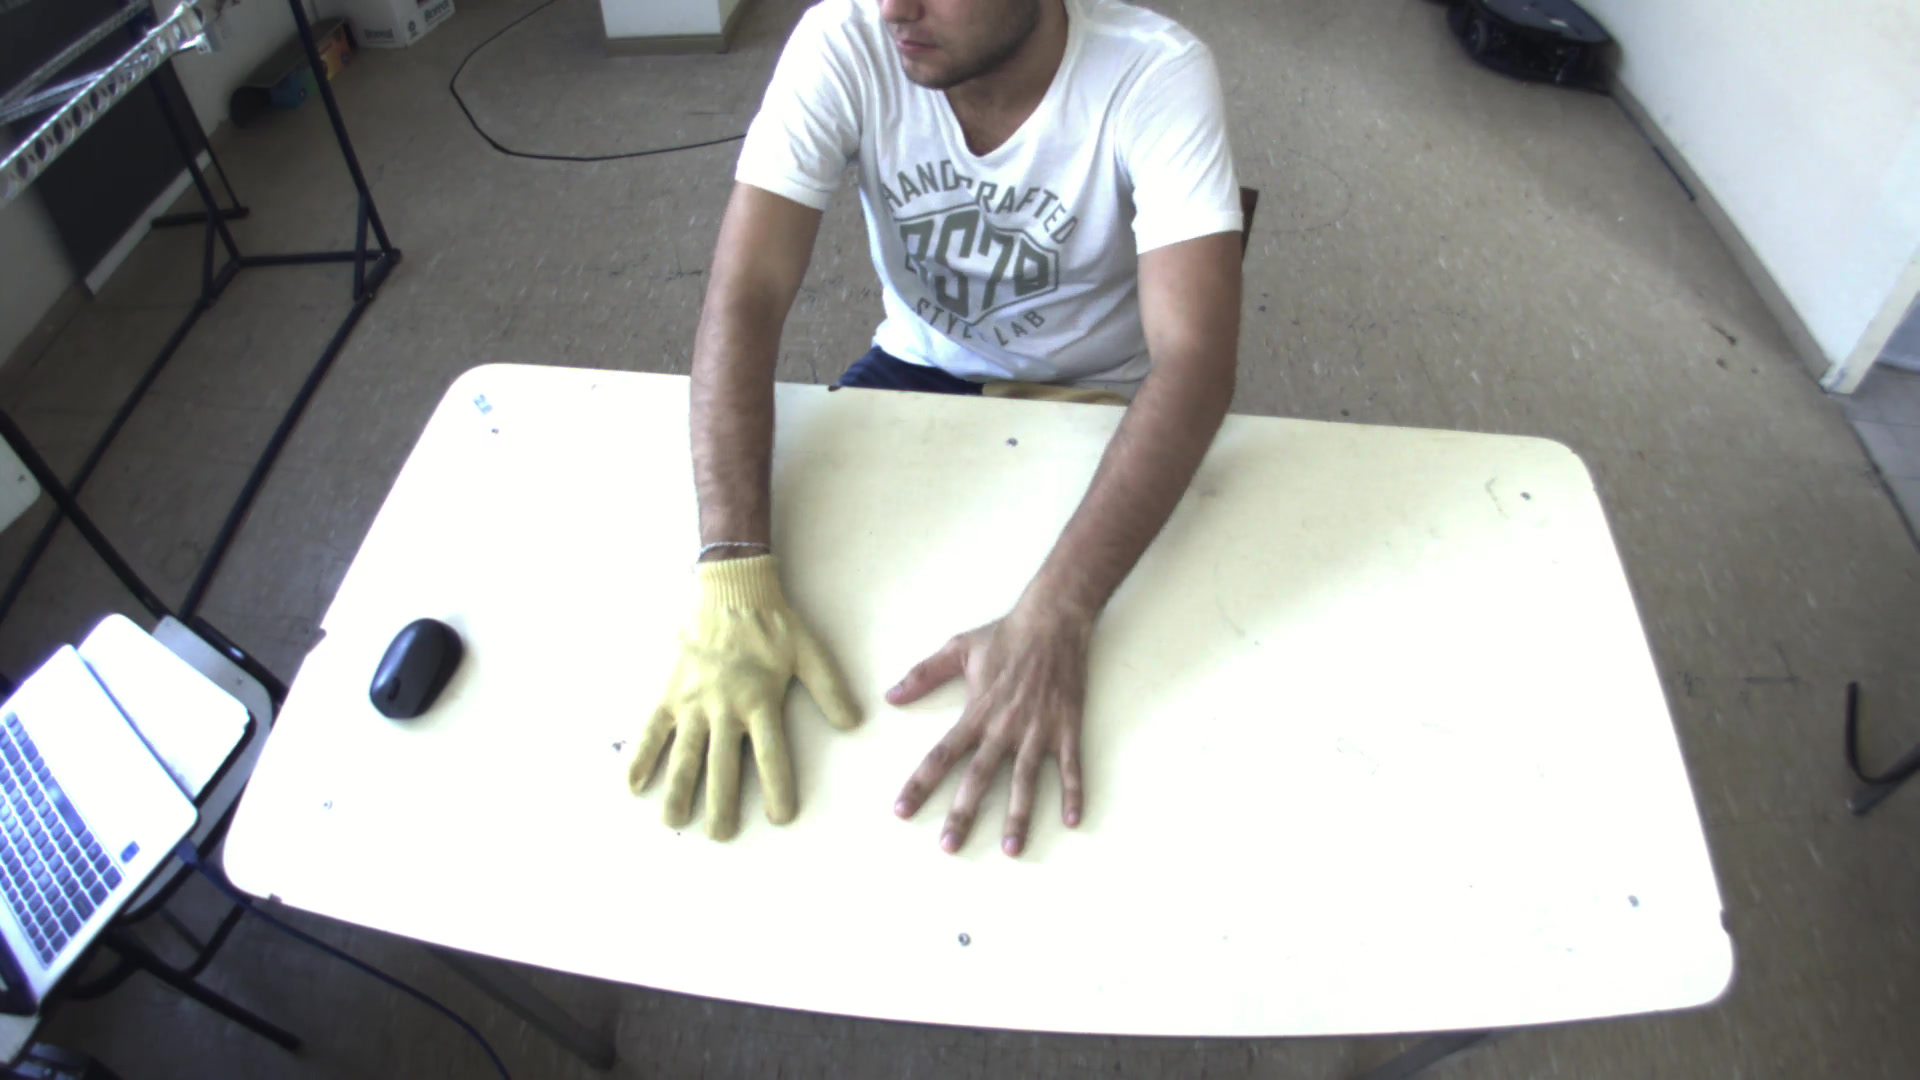hand: (609, 535, 872, 856), (877, 601, 1112, 872)
